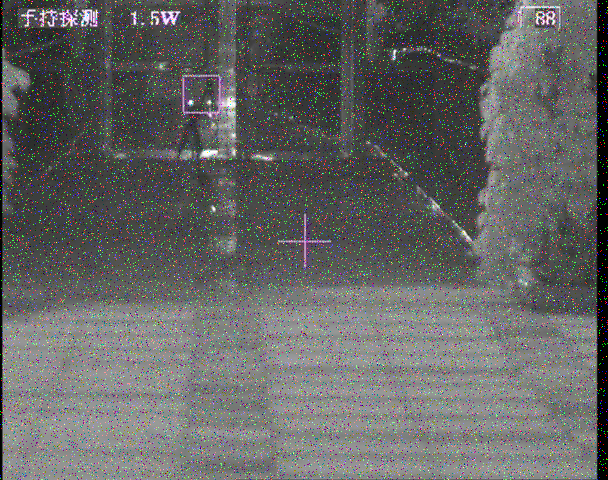my: (187, 99, 194, 106)
